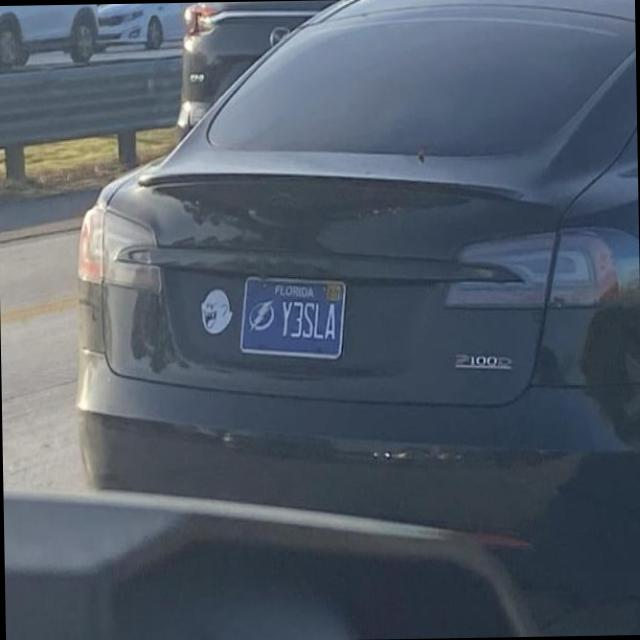LicensePlate: (238, 275, 349, 362)
